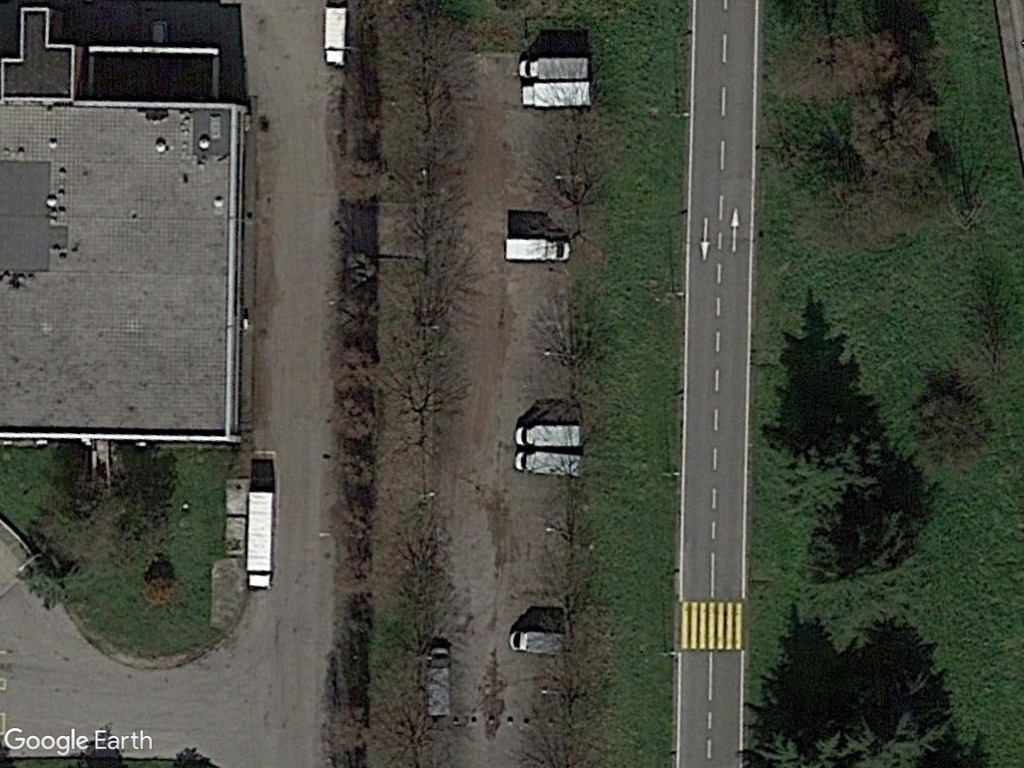truck: (244, 489, 278, 594), (500, 232, 575, 264), (318, 3, 351, 71), (518, 82, 594, 111), (516, 53, 591, 82), (507, 626, 574, 658), (424, 644, 452, 718), (510, 449, 583, 477), (510, 423, 585, 448)
